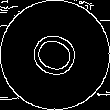O_SE: (23, 25, 87, 85)
